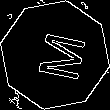M_W: (25, 27, 85, 83)
